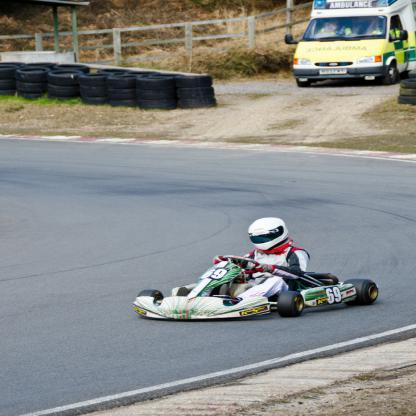Ambulance - v1 Ambulance last generate: (280, 0, 416, 88)
